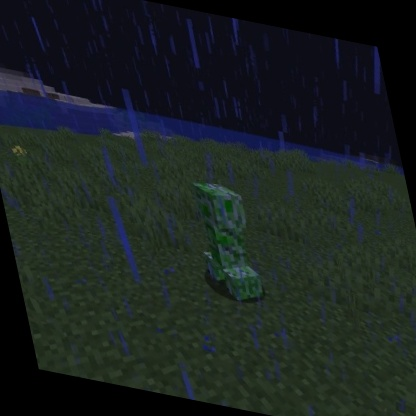creeper: (181, 174, 272, 310)
